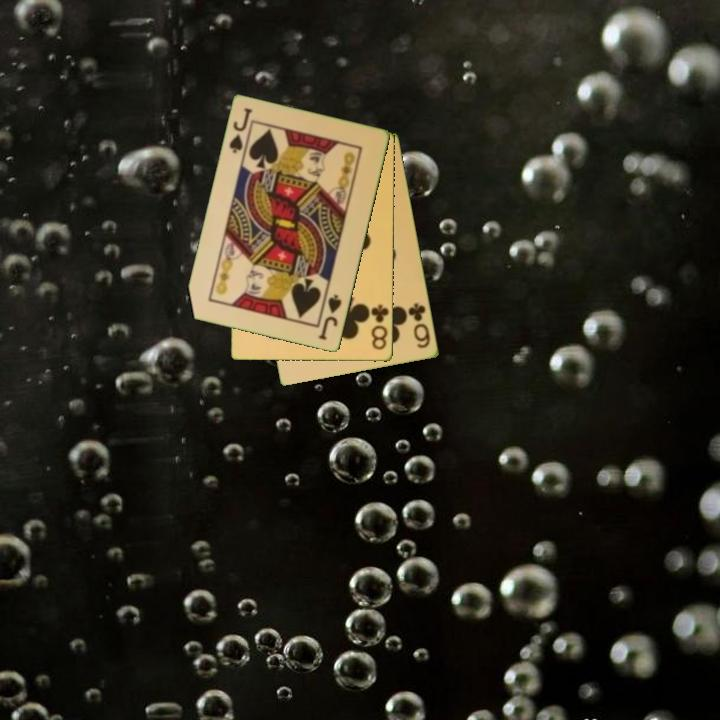6c: (405, 300, 433, 351)
8c: (368, 301, 391, 352)
Js: (315, 291, 345, 343), (226, 105, 256, 156)
